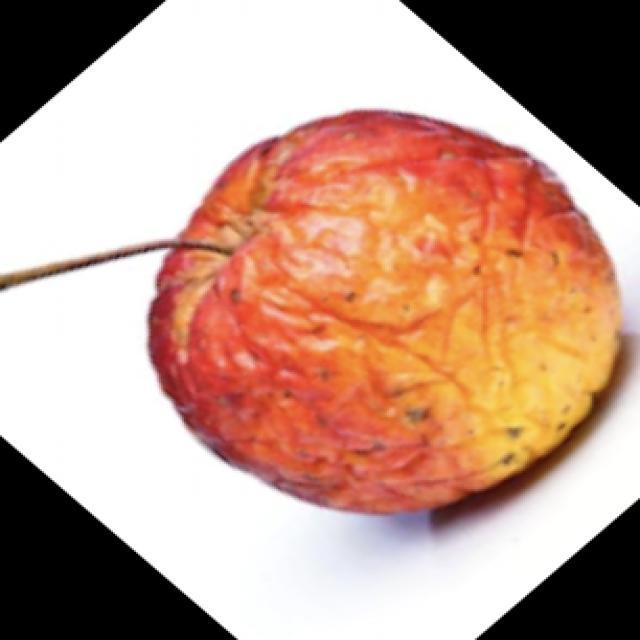Rotten: (145, 100, 618, 540)
